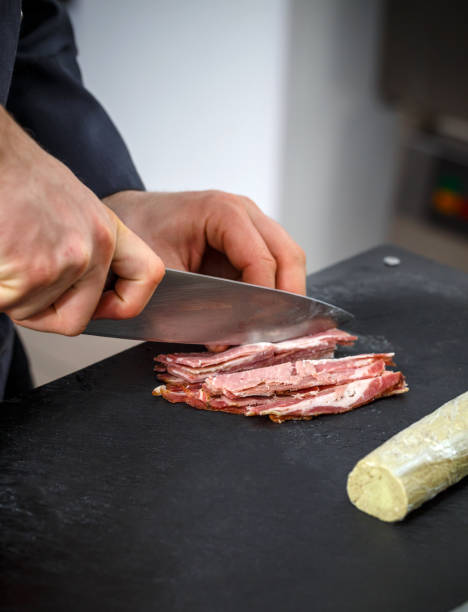knife: (78, 263, 361, 349)
